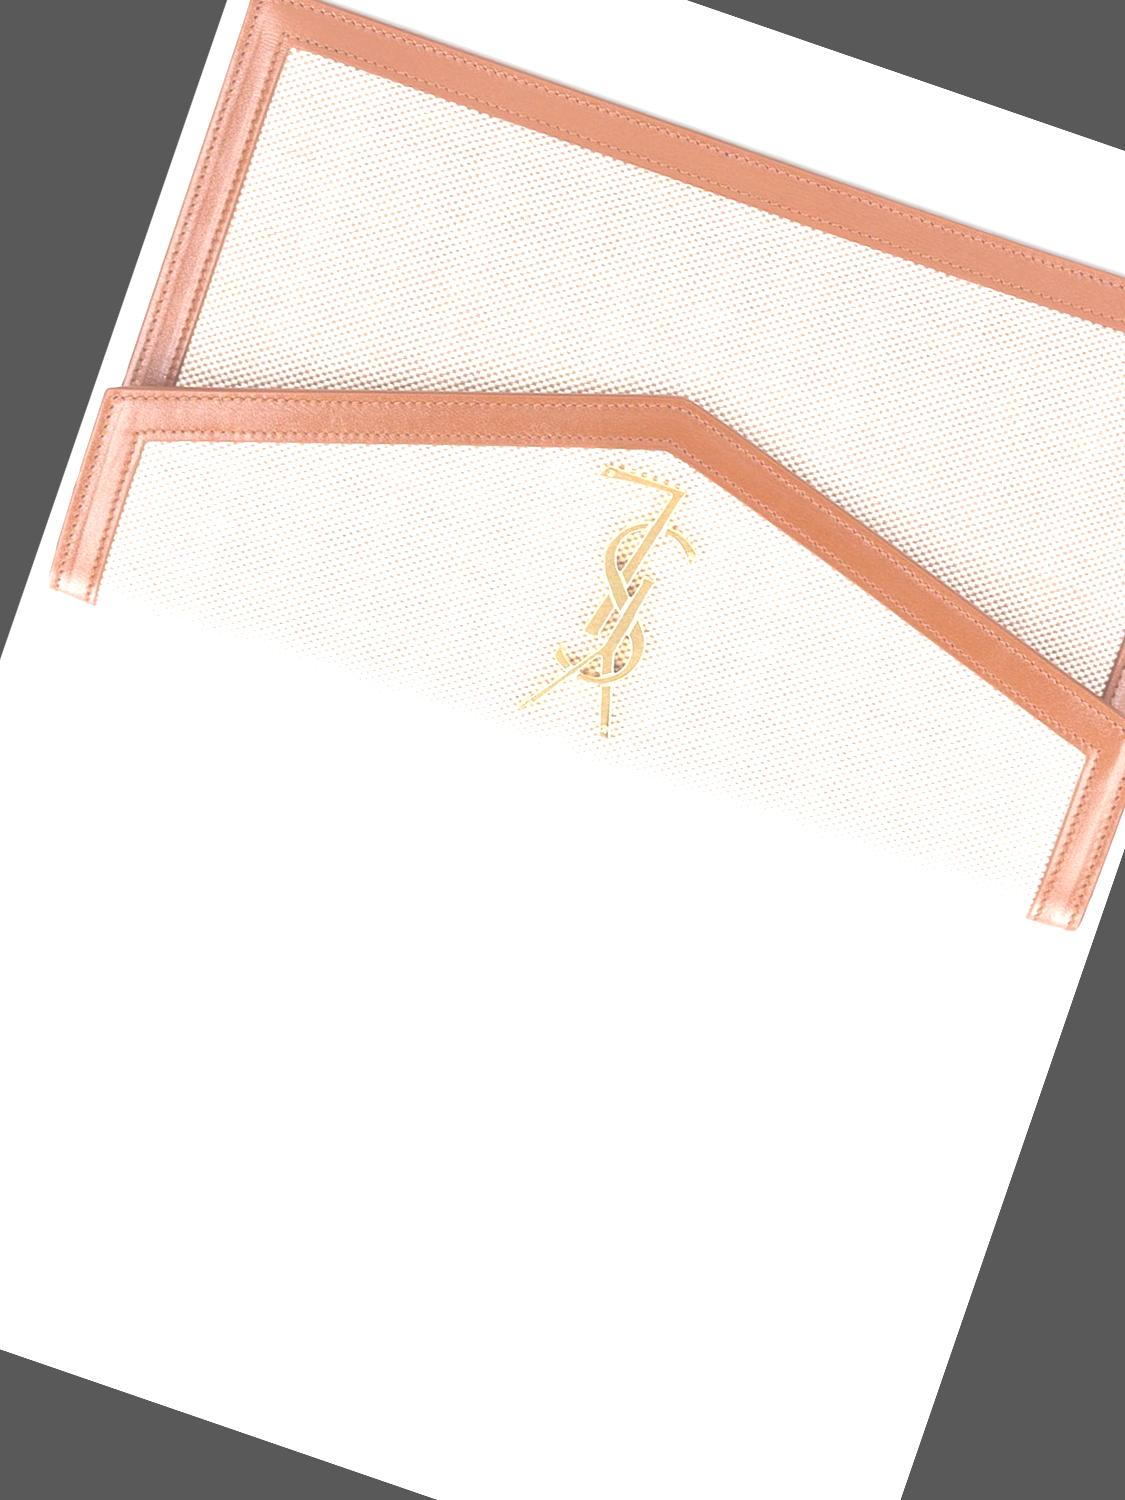YVES-SAINT-LAURENT: (516, 462, 715, 746)
